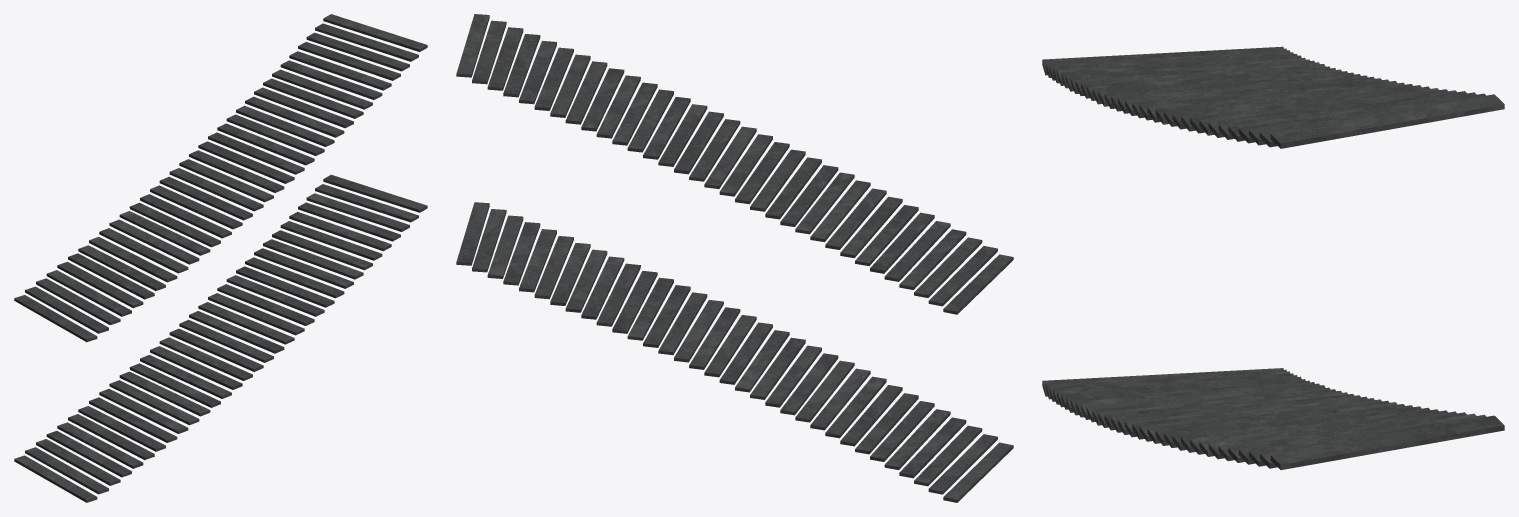
Rendered from Steps.glb.
3 renders of one model, left to right at view 1: azimuth 30°, elevation 25°; view 2: azimuth 150°, elevation 25°; view 3: azimuth 270°, elevation 25°, orthographic. The views are drawn at different scales.
Parts seen in each view (by area): view 1: Steps; view 2: Steps; view 3: Steps.
Boxes of the visible parts, x1,y1,x2,y2 form: Steps: [14, 14, 427, 502]; Steps: [456, 14, 1013, 502]; Steps: [1042, 46, 1504, 469].
Bounding box in the file's own units: 21.79 × 15.97 × 10.57.
Materials: 1 (1 with a texture image).
